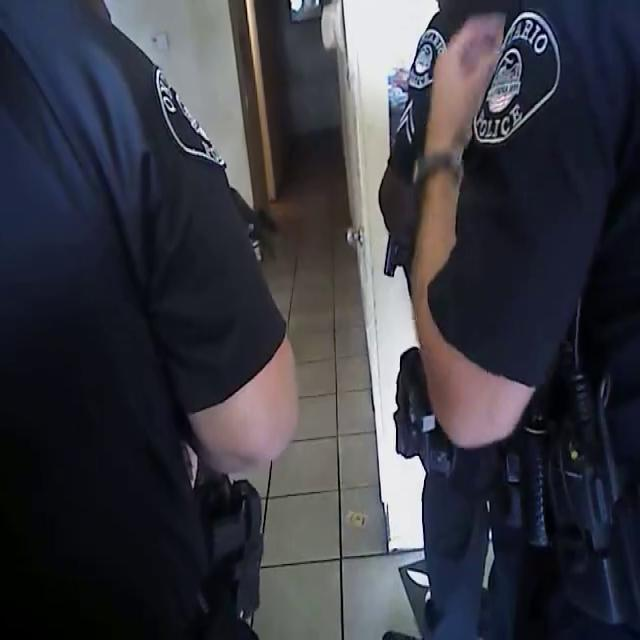gun: (174, 441, 304, 631)
